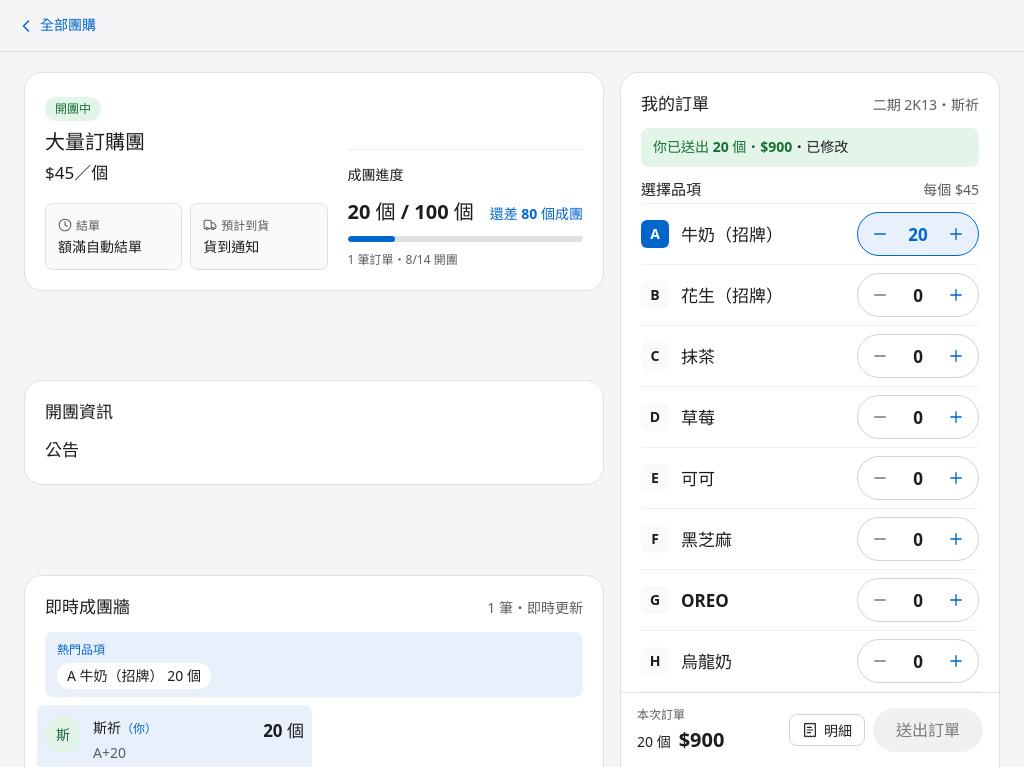
customer campaign app › allows a formal item quantity to exceed twenty when campaign capacity remains
The image size is (1024, 767).
expect the text named "A 牛奶（招牌）數量" reads "20": met, box [908,223,928,246]
Click the button named "增加 A 牛奶（招牌）" at (956, 234), box [934,213,978,255]
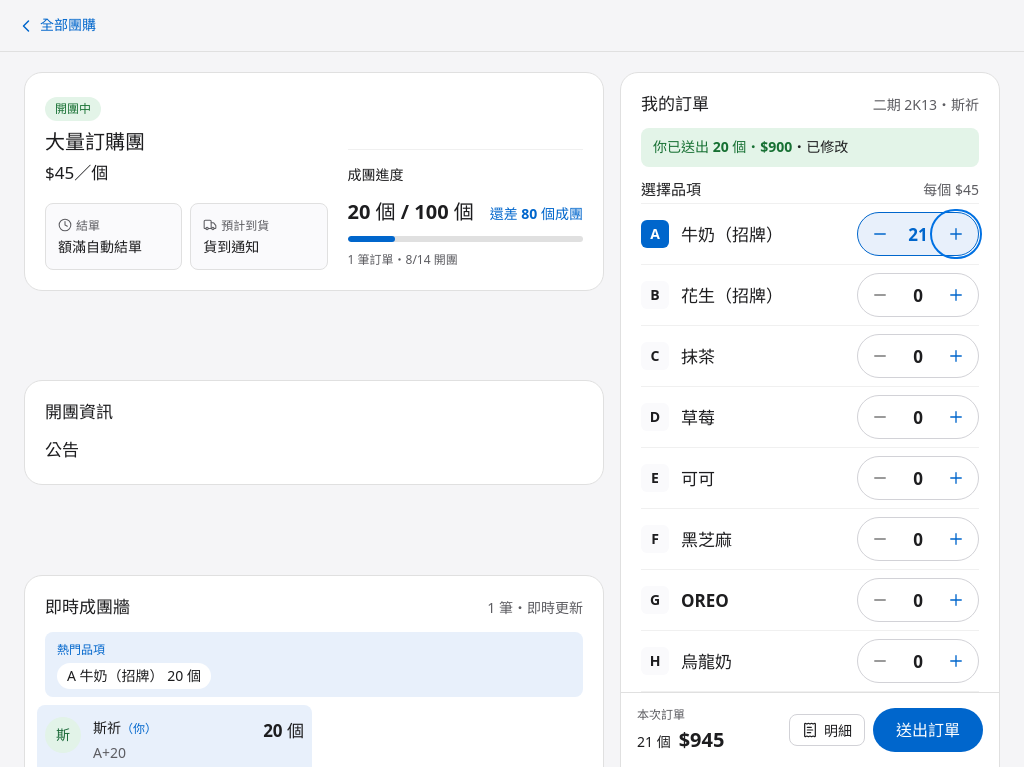
expect the text named "A 牛奶（招牌）數量" reads "21": met, box [908,223,928,246]
